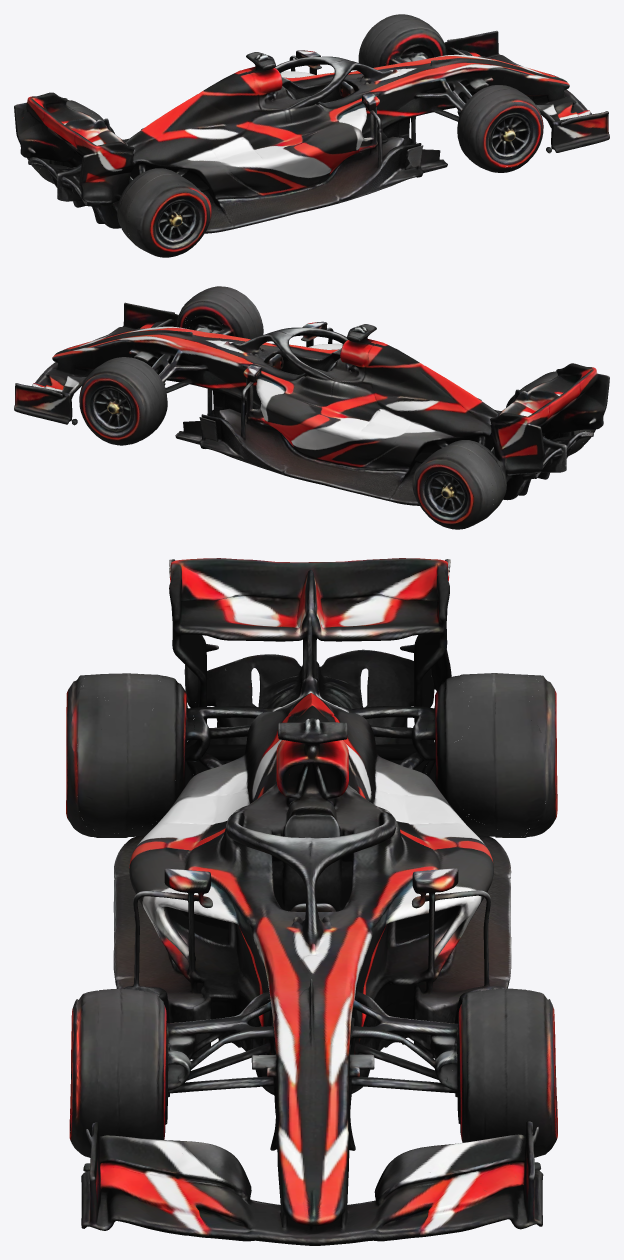
The model's file is tm_tempesta.glb.
3 renders of one model, top to bottom at view 1: azimuth 30°, elevation 25°; view 2: azimuth 150°, elevation 25°; view 3: azimuth 270°, elevation 25°, orthographic. The views are drawn at different scales.
Parts seen in each view (by area): view 1: body, wheel_FR_part, wheel_RR_part, wheel_FL_part, wheel_RL_part; view 2: body, wheel_FL_part, wheel_RL_part, wheel_FR_part, wheel_RR_part; view 3: body, wheel_FL_part, wheel_FR_part, wheel_RL_part, wheel_RR_part.
Part boxes in pixels (bbox=[...]): body: bbox=[14, 30, 609, 241]; wheel_FR_part: bbox=[457, 85, 543, 172]; wheel_RR_part: bbox=[112, 168, 210, 257]; wheel_FL_part: bbox=[358, 14, 446, 67]; wheel_RL_part: bbox=[27, 100, 114, 184]; body: bbox=[14, 302, 609, 510]; wheel_FL_part: bbox=[79, 357, 167, 445]; wheel_RL_part: bbox=[413, 440, 506, 529]; wheel_FR_part: bbox=[176, 286, 263, 339]; wheel_RR_part: bbox=[507, 371, 595, 455]; body: bbox=[69, 558, 546, 1245]; wheel_FL_part: bbox=[450, 988, 557, 1157]; wheel_FR_part: bbox=[70, 988, 166, 1157]; wheel_RL_part: bbox=[424, 673, 557, 837]; wheel_RR_part: bbox=[66, 674, 196, 837].
Bounding box in the file's own units: 1.9 × 0.444 × 0.7759.
Materials: 3 (3 with a texture image).
